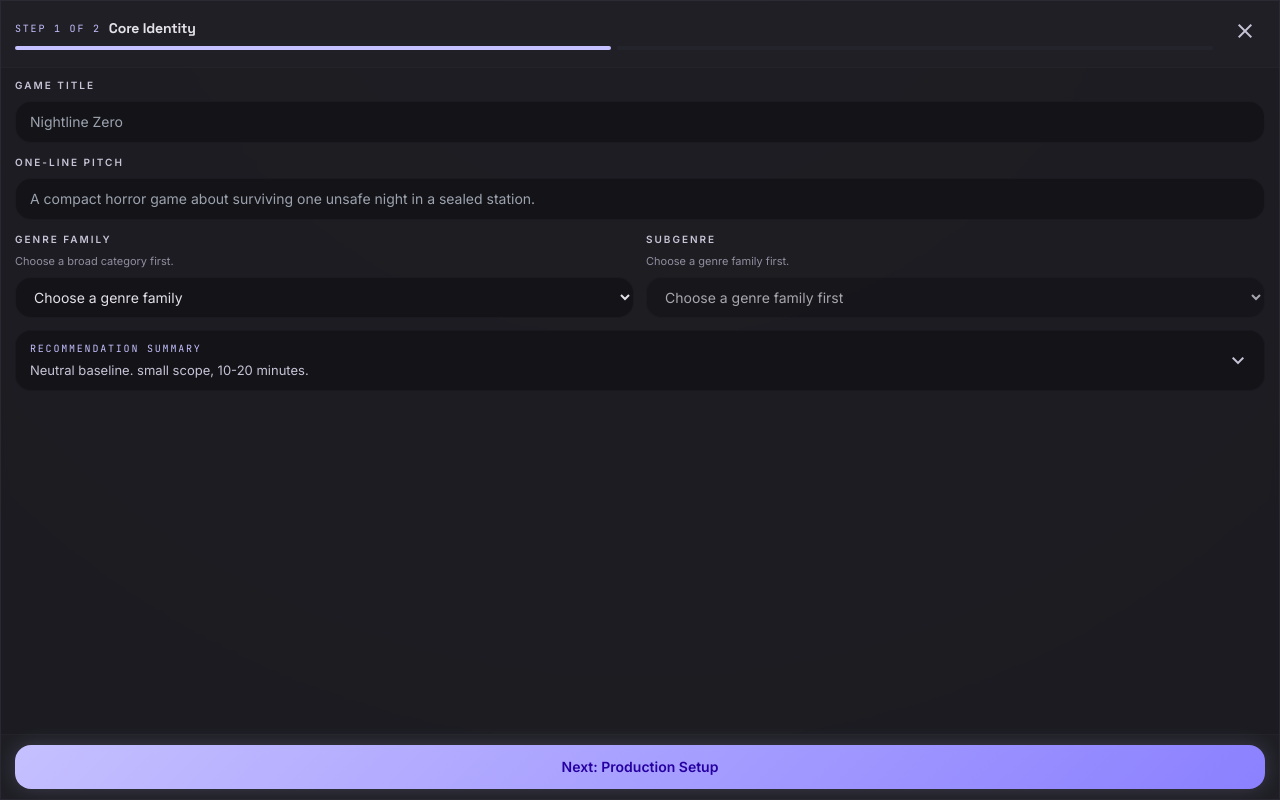
Test: NewProjectModal › collapses the recommendation baseline and uses compact scope cards on mobile step two
Type "Pocket Build" into the field labelled "Game Title".
click(640, 122); type("Pocket Build")  # box [15,101,1265,143]
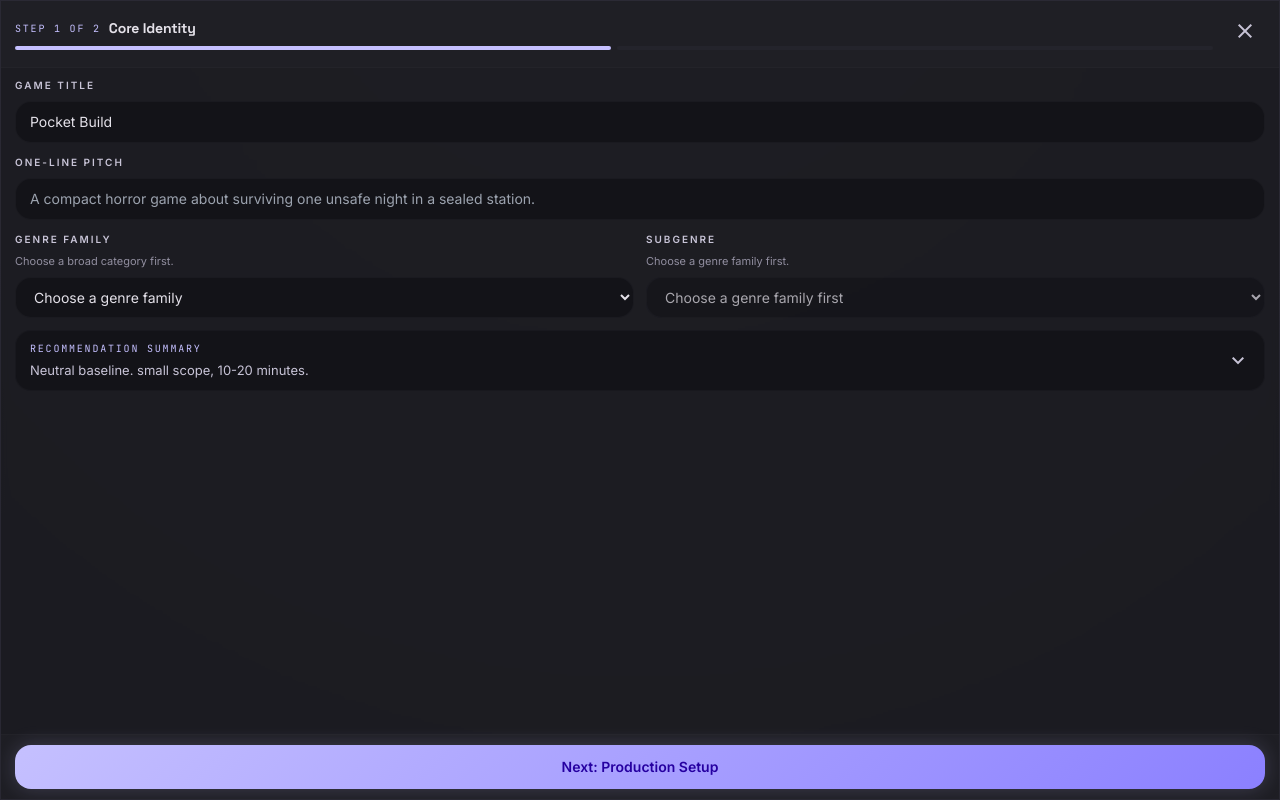
Click the button "Next: Production Setup".
click(640, 767)  # box [15,745,1265,789]
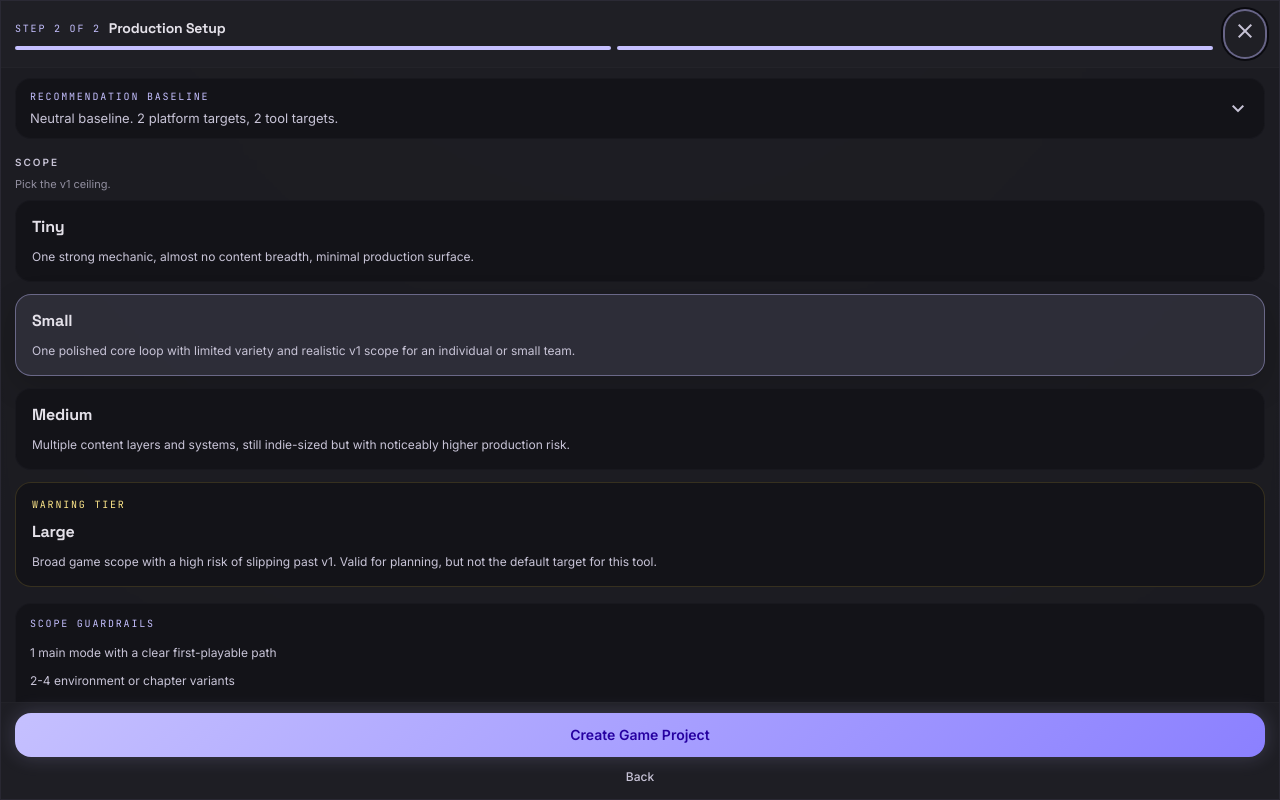
Expected: the button "Recommendation Baseline" is shown, [16,79,1264,138]
Expected: the text "Small" is shown, [15,294,1265,376]
Expected: the button "Back" is shown, [614,765,666,789]
